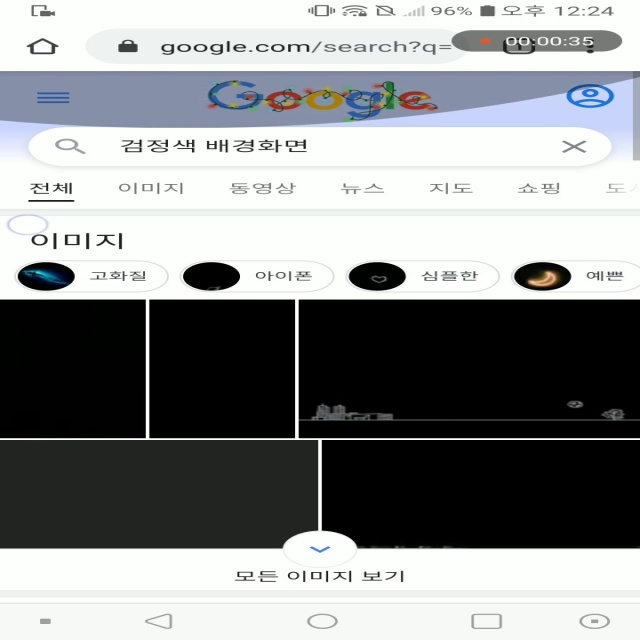Cursor: (8, 214, 52, 236)
